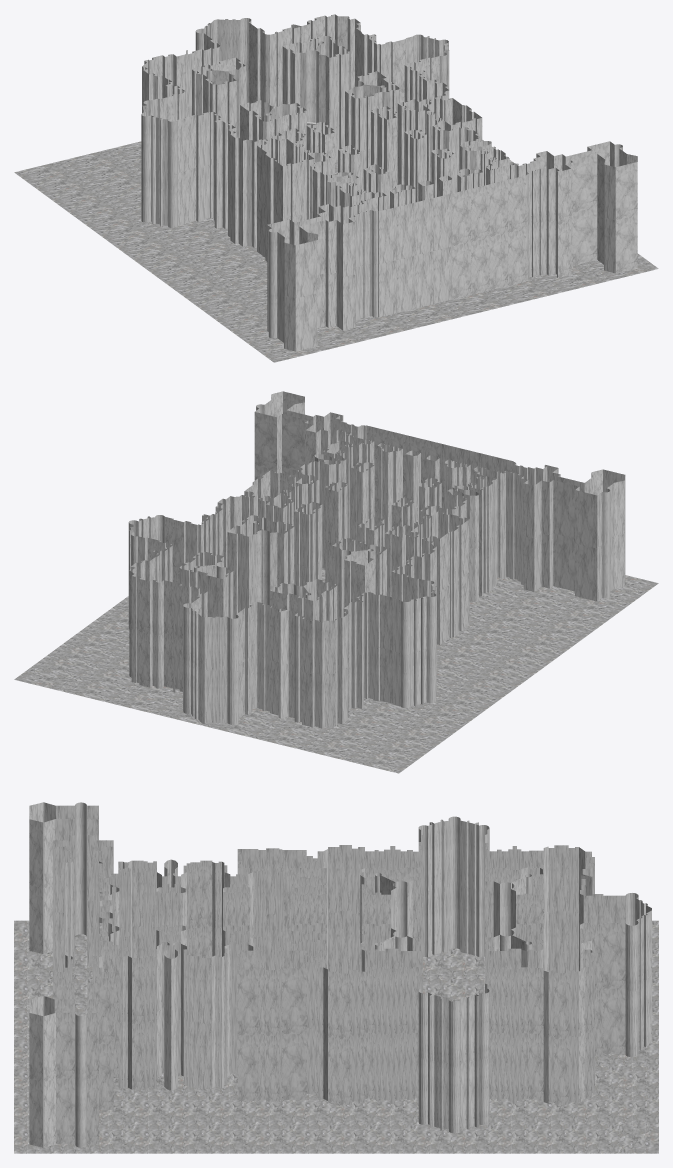
The model's file is museum.obj.
3 renders of one model, top to bottom at view 1: azimuth 30°, elevation 25°; view 2: azimuth 150°, elevation 25°; view 3: azimuth 270°, elevation 25°, orthographic. The views are drawn at different scales.
Visible parts, largest first — view 1: MuseumWalls, Floor_Cube.000; view 2: MuseumWalls, Floor_Cube.000; view 3: MuseumWalls, Floor_Cube.000.
Boxes of the visible parts, x1,y1,x2,y2 form: MuseumWalls: (141, 14, 637, 351); Floor_Cube.000: (14, 140, 658, 362); MuseumWalls: (128, 391, 625, 728); Floor_Cube.000: (14, 568, 658, 773); MuseumWalls: (29, 802, 651, 1147); Floor_Cube.000: (14, 920, 658, 1153).
Size of the model in its own units: 54.1 by 14.52 by 63.33.
